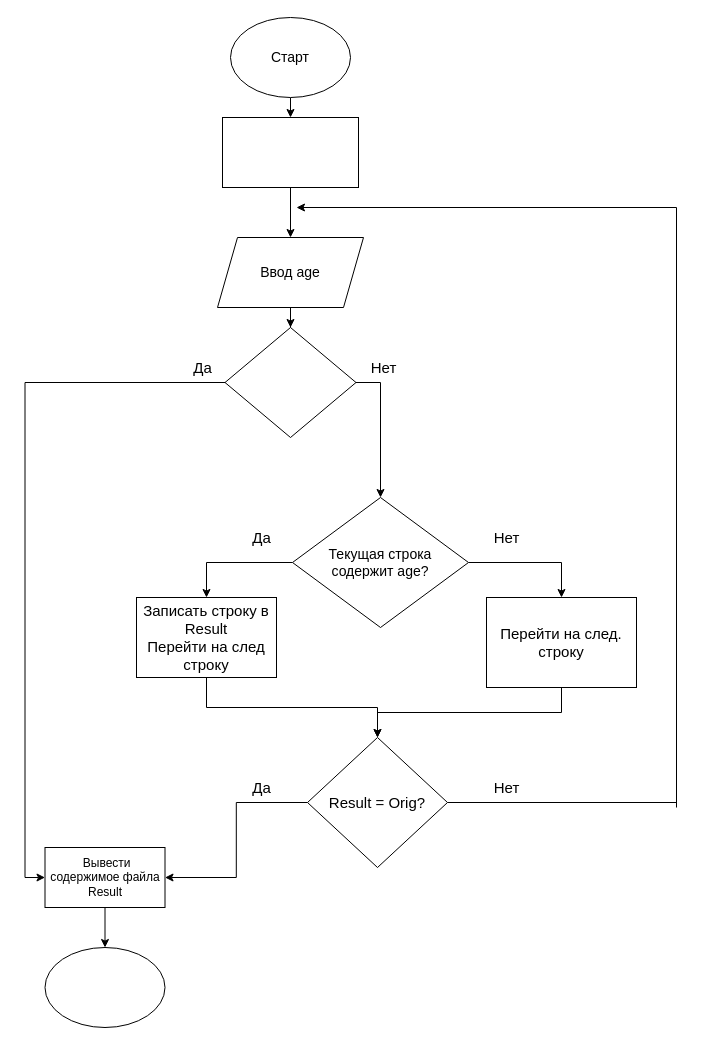
Some shapes in this 702 by 1045 pixel diagram are drawn without their labels. The shapes that lost their labels are listed below. From the top down, each one's box as (x1, y1, x2, y2) in pixels, then its label:
(222, 116, 358, 188): Открыть файл Original Создать файл Result
(224, 326, 356, 438): age = -1?
(44, 946, 165, 1028): Конец
